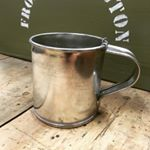cups: (24, 30, 143, 133)
